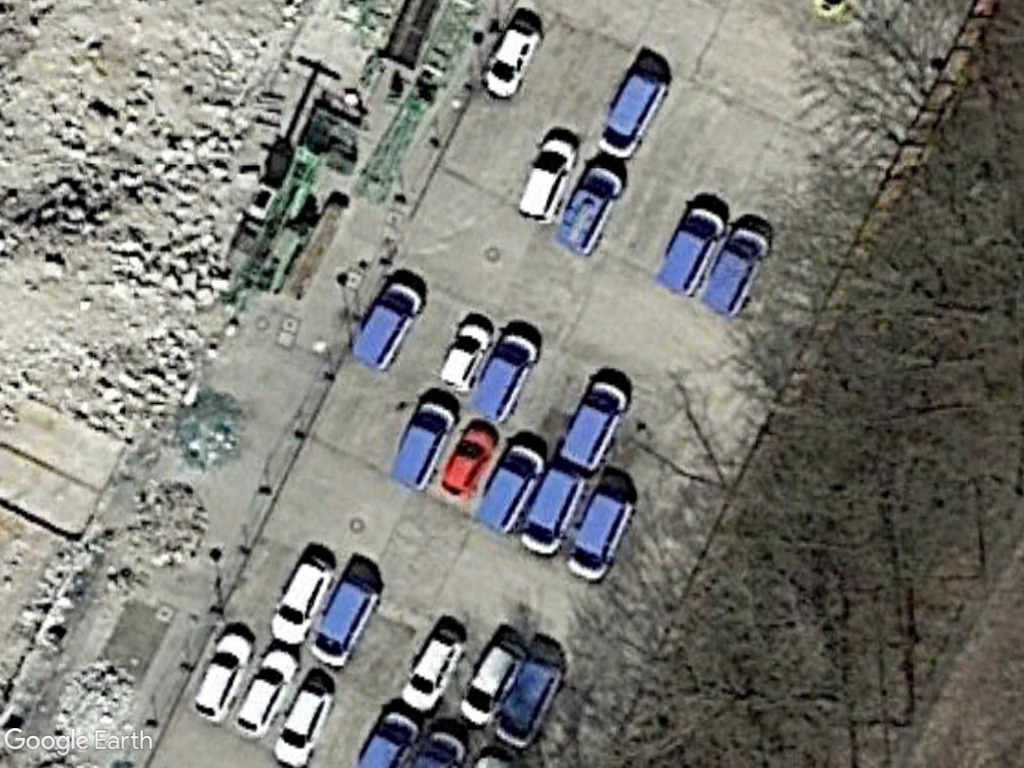car: (228, 642, 299, 738), (397, 625, 469, 717), (266, 550, 333, 648), (458, 638, 529, 728), (191, 629, 255, 727), (515, 136, 582, 228), (479, 17, 547, 104), (270, 678, 336, 766), (434, 420, 500, 501), (437, 311, 495, 392)
van: (346, 274, 430, 377), (698, 222, 778, 322), (550, 158, 627, 258), (593, 65, 673, 161), (554, 375, 630, 474), (655, 200, 728, 302), (471, 433, 543, 536), (489, 655, 567, 750), (561, 491, 639, 581), (309, 576, 381, 670), (469, 332, 540, 426), (391, 396, 457, 494), (520, 463, 578, 558)
